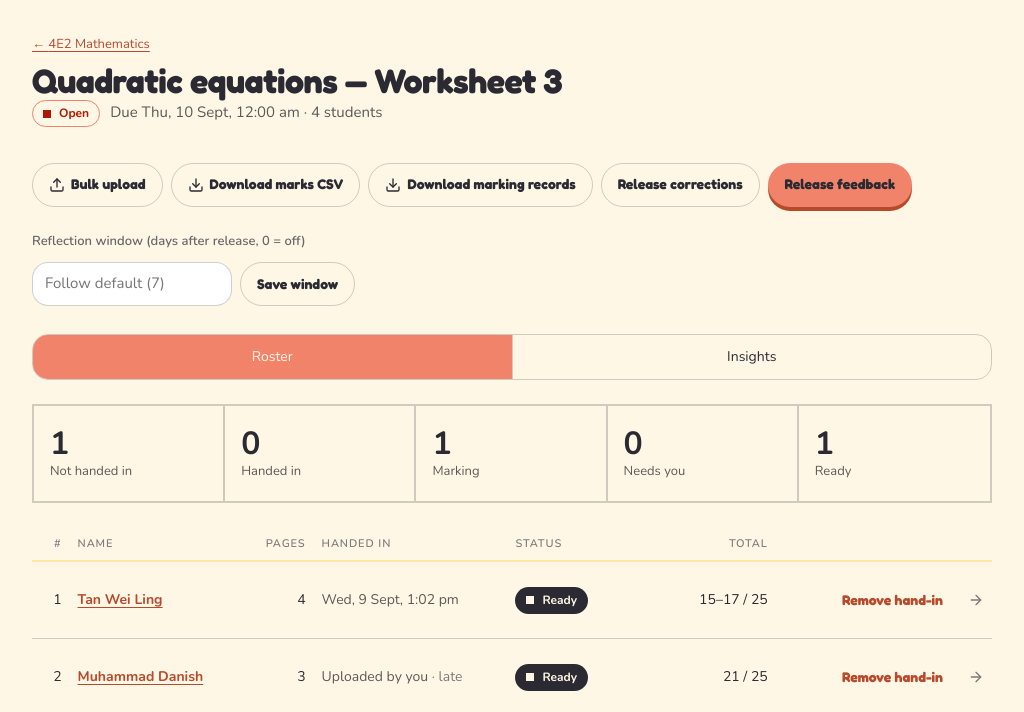
Test: ClassAssignmentPage › shows the server's reason when release is refused
Click the button "Release feedback".
click(840, 185)  # box [768,163,912,207]
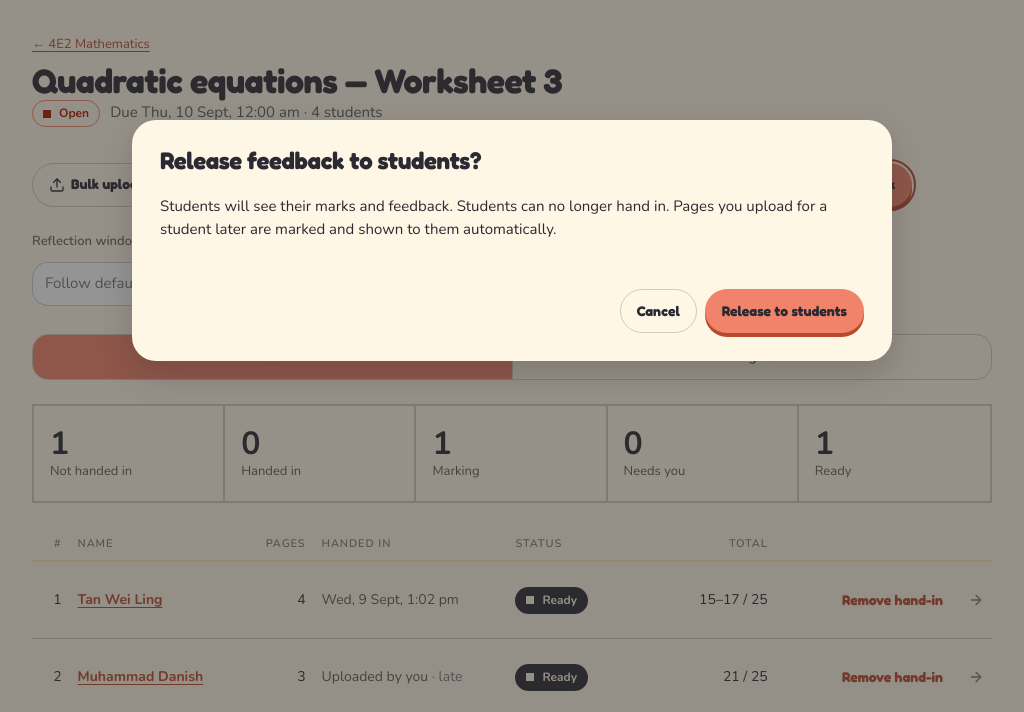
Click the button "Release to students".
click(784, 311)  # box [705,289,864,333]
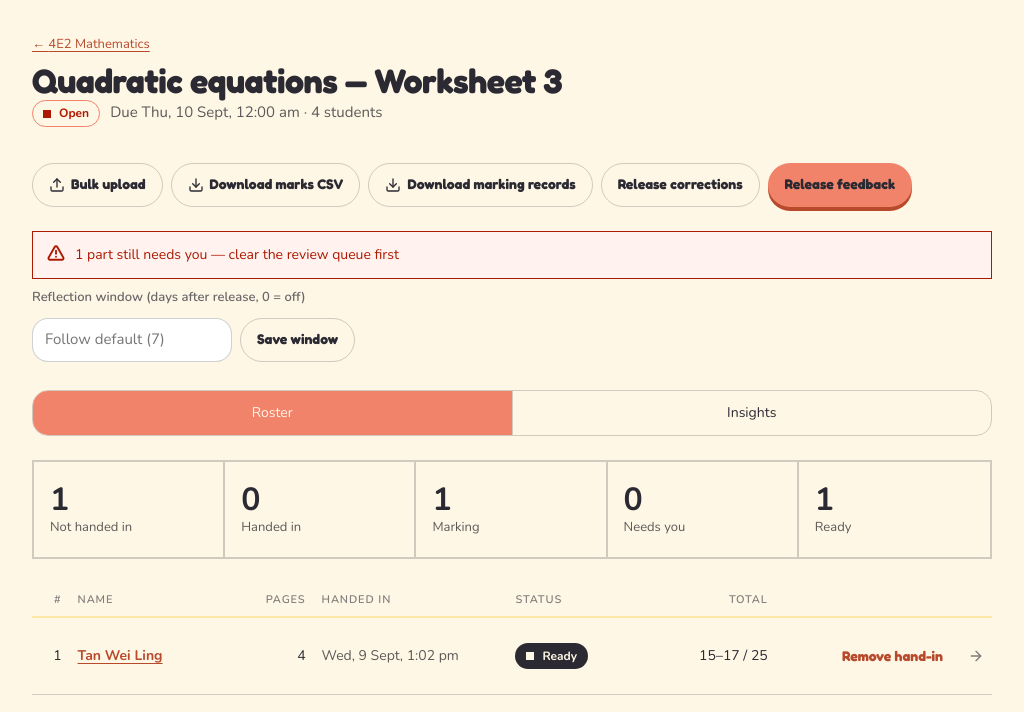
Expected: the button "Release feedback" is shown, [768,163,912,207]
Now the text "1 part still needs you — clear the review queue first" is shown, box [75,244,399,266]
Now the dialog is gone
